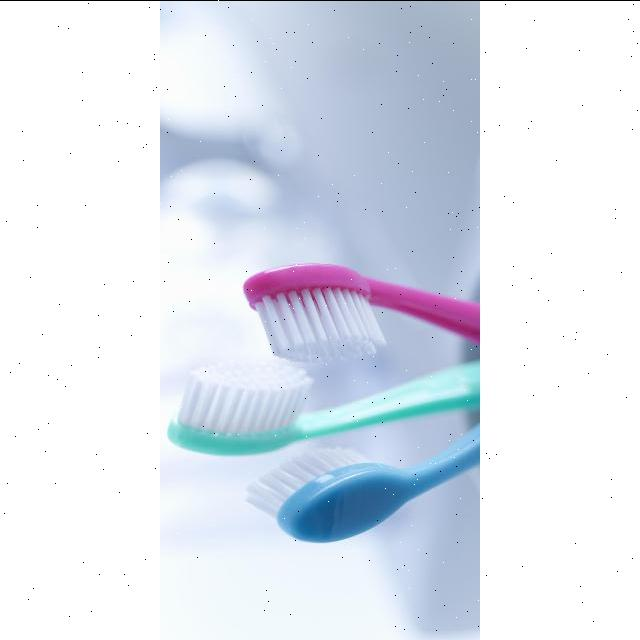toothbrush: (230, 262, 480, 366)
